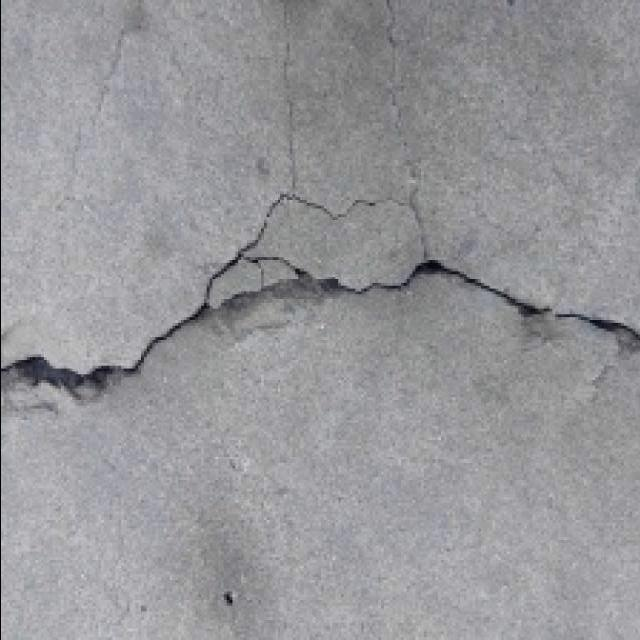SurfaceCrack: (6, 190, 640, 436)
